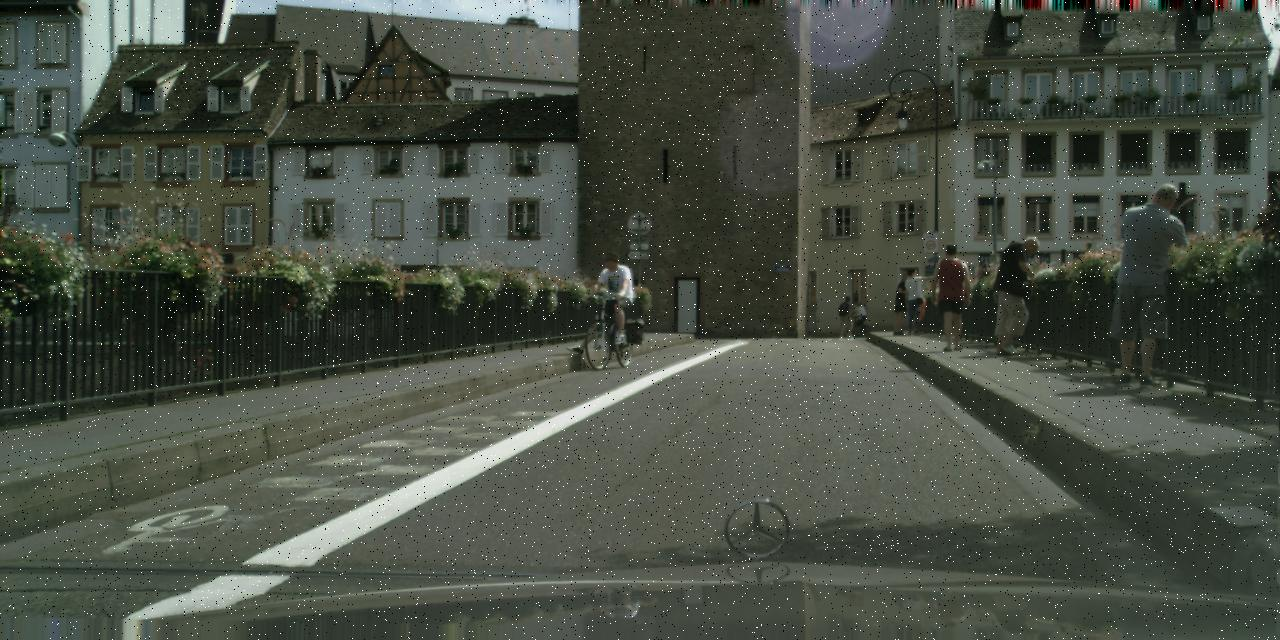ped: (1111, 182, 1193, 384), (997, 238, 1044, 354), (930, 243, 974, 350), (587, 251, 627, 349), (898, 267, 926, 335), (889, 271, 914, 335), (837, 296, 854, 338), (850, 302, 862, 334)
